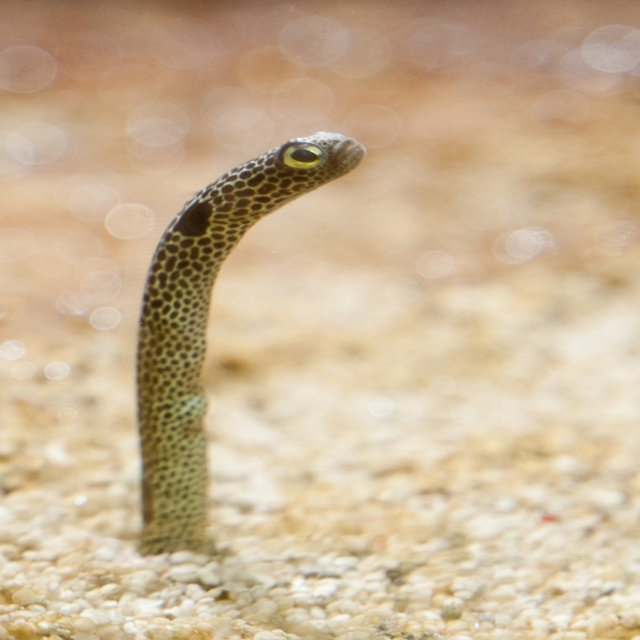Snake: (113, 136, 366, 557)
